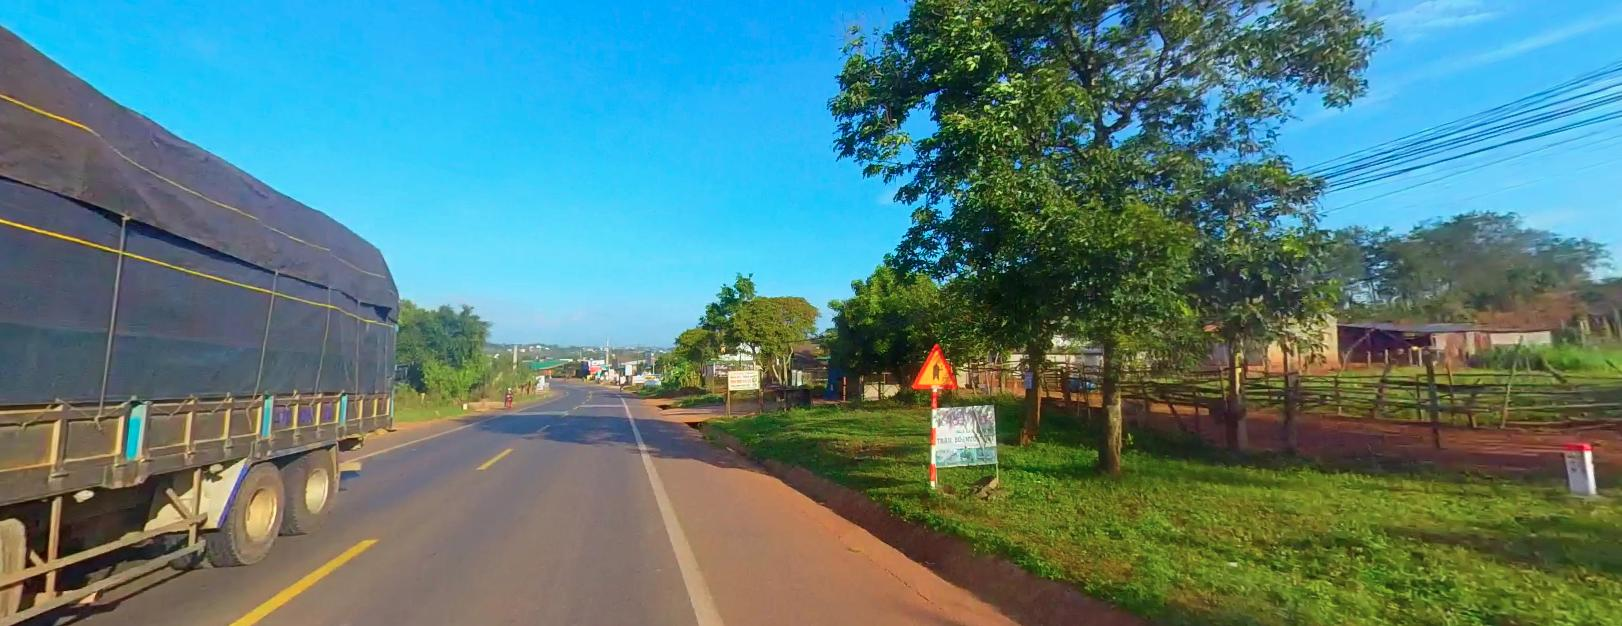Nguy hiem: (911, 342, 957, 387)
